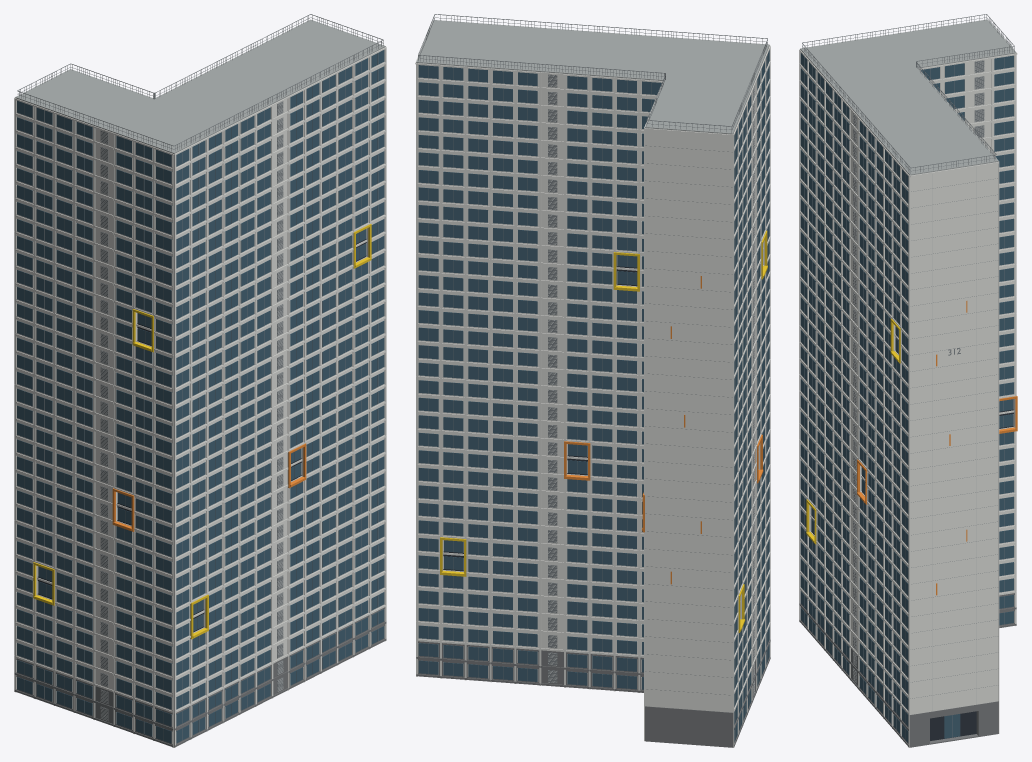
File: bespoke-songpa-helio-city-312.glb
3 renders of one model, left to right at view 1: azimuth 30°, elevation 25°; view 2: azimuth 150°, elevation 25°; view 3: azimuth 270°, elevation 25°, orthographic. The views are drawn at different scales.
Parts seen in each view (by area): view 1: Helio312_editable_Helio312_dark_blue_grey_glazing002, Helio312_editable_Helio312_white_slab_frames002, Helio312_editable_Helio312_grey_service_grille002, Helio312_editable_Helio312_low_roof_deck002, Helio312_editable_Helio312_dark_grey_twofloor_base002, Helio312_editable_Helio312_blankwall_grey_panels002, Helio312_editable_Helio312_yellow_projecting_rectangular_fra, Helio312_editable_Helio312_orange_narrow_accent002; view 2: Helio312_editable_Helio312_white_slab_frames002, Helio312_editable_Helio312_dark_blue_grey_glazing002, Helio312_editable_Helio312_low_roof_deck002, Helio312_editable_Helio312_grey_service_grille002, Helio312_editable_Helio312_dark_grey_twofloor_base002, Helio312_editable_Helio312_blankwall_grey_panels002, Helio312_editable_Helio312_yellow_projecting_rectangular_fra, Helio312_editable_Helio312_orange_narrow_accent002; view 3: Helio312_editable_Helio312_white_slab_frames002, Helio312_editable_Helio312_dark_blue_grey_glazing002, Helio312_editable_Helio312_low_roof_deck002, Helio312_editable_Helio312_grey_service_grille002, Helio312_editable_Helio312_dark_grey_twofloor_base002, Helio312_editable_Helio312_blankwall_grey_panels002, Helio312_editable_Helio312_deep_shaded_frame_recess002, Helio312_editable_Helio312_orange_narrow_accent002, Helio312_editable_Helio312_yellow_projecting_rectangular_fra.
Boxes of the visible parts, box(x1,y1,x2,y2) form: Helio312_editable_Helio312_dark_blue_grey_glazing002: box(17, 50, 384, 743); Helio312_editable_Helio312_white_slab_frames002: box(14, 46, 386, 747); Helio312_editable_Helio312_grey_service_grille002: box(17, 14, 383, 740); Helio312_editable_Helio312_low_roof_deck002: box(15, 19, 385, 153); Helio312_editable_Helio312_dark_grey_twofloor_base002: box(14, 607, 386, 747); Helio312_editable_Helio312_blankwall_grey_panels002: box(100, 101, 283, 720); Helio312_editable_Helio312_yellow_projecting_rectangular_fra: box(33, 224, 371, 639); Helio312_editable_Helio312_orange_narrow_accent002: box(112, 443, 306, 531); Helio312_editable_Helio312_white_slab_frames002: box(415, 21, 770, 747); Helio312_editable_Helio312_dark_blue_grey_glazing002: box(418, 50, 769, 741); Helio312_editable_Helio312_low_roof_deck002: box(416, 20, 769, 134); Helio312_editable_Helio312_grey_service_grille002: box(418, 14, 767, 738); Helio312_editable_Helio312_dark_grey_twofloor_base002: box(416, 639, 770, 747); Helio312_editable_Helio312_blankwall_grey_panels002: box(548, 75, 754, 695); Helio312_editable_Helio312_yellow_projecting_rectangular_fra: box(440, 230, 767, 632); Helio312_editable_Helio312_orange_narrow_accent002: box(564, 276, 763, 584); Helio312_editable_Helio312_white_slab_frames002: box(799, 20, 1017, 747); Helio312_editable_Helio312_dark_blue_grey_glazing002: box(800, 53, 1013, 742); Helio312_editable_Helio312_low_roof_deck002: box(800, 19, 1016, 175); Helio312_editable_Helio312_grey_service_grille002: box(802, 14, 1014, 739); Helio312_editable_Helio312_dark_grey_twofloor_base002: box(799, 590, 1016, 747); Helio312_editable_Helio312_blankwall_grey_panels002: box(853, 60, 983, 711); Helio312_editable_Helio312_deep_shaded_frame_recess002: box(811, 334, 1013, 740); Helio312_editable_Helio312_orange_narrow_accent002: box(857, 301, 1017, 595); Helio312_editable_Helio312_yellow_projecting_rectangular_fra: box(806, 318, 900, 544).
Size of the model in its own units: 57.33 by 99.2 by 33.89.
